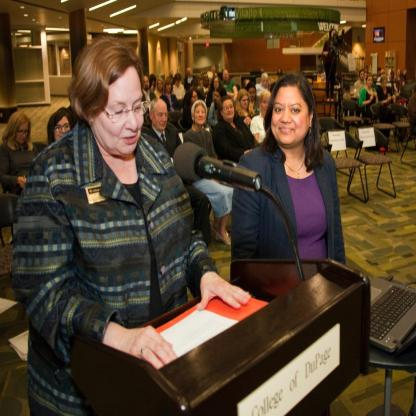board: (369, 275, 416, 350)
